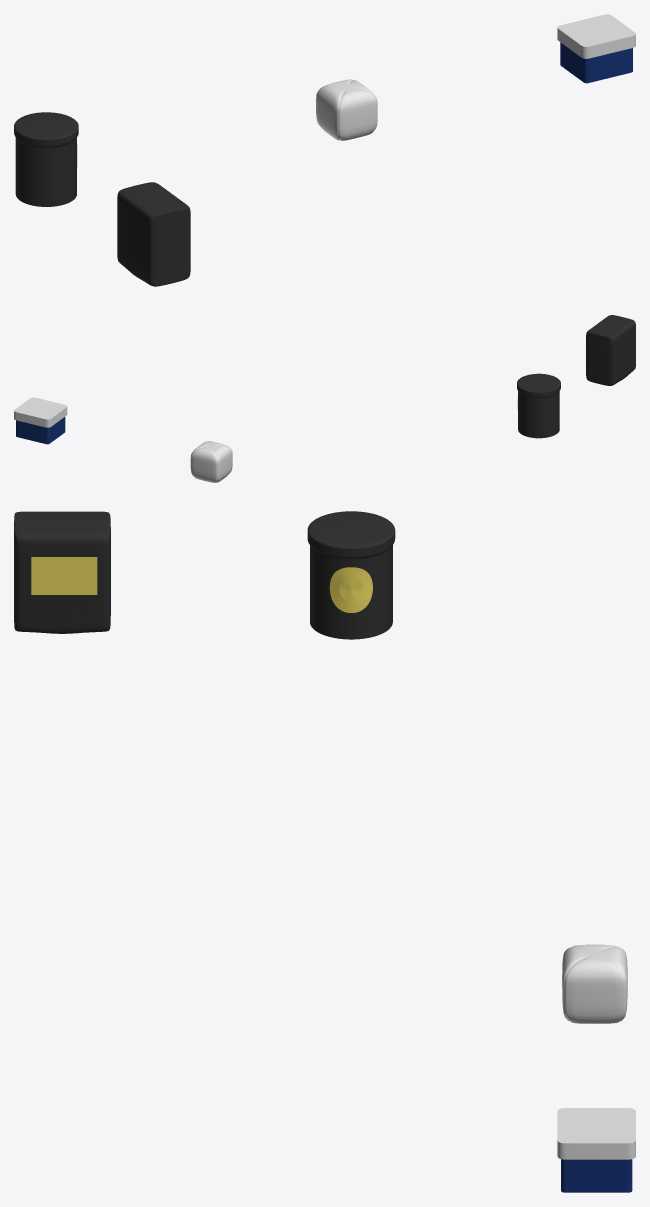
Rendered from items.glb.
3 views of the same model, one above another, from view 1: azimuth 30°, elevation 25°; view 2: azimuth 150°, elevation 25°; view 3: azimuth 270°, elevation 25° (orthographic). The views are drawn at different scales.
Visible parts, largest first — view 1: tea_box2, tea_bottle2, blue_box5, white_box4; view 2: tea_box2, tea_bottle2, blue_box5, white_box4; view 3: tea_box2, tea_bottle2, blue_box5, white_box4.
Part boxes in pixels (left/top/right/bottom): tea_box2: left=117, top=182, right=190, bottom=286; tea_bottle2: left=14, top=112, right=78, bottom=206; blue_box5: left=557, top=14, right=635, bottom=83; white_box4: left=316, top=79, right=377, bottom=140; tea_box2: left=586, top=315, right=635, bottom=385; tea_bottle2: left=517, top=373, right=560, bottom=438; blue_box5: left=14, top=397, right=67, bottom=444; white_box4: left=190, top=441, right=232, bottom=482; tea_box2: left=14, top=511, right=110, bottom=633; tea_bottle2: left=307, top=511, right=395, bottom=639; blue_box5: left=557, top=1108, right=635, bottom=1192; white_box4: left=562, top=944, right=627, bottom=1023.
Bounding box in the file's own units: 4.17 × 0.9837 × 2.39.
